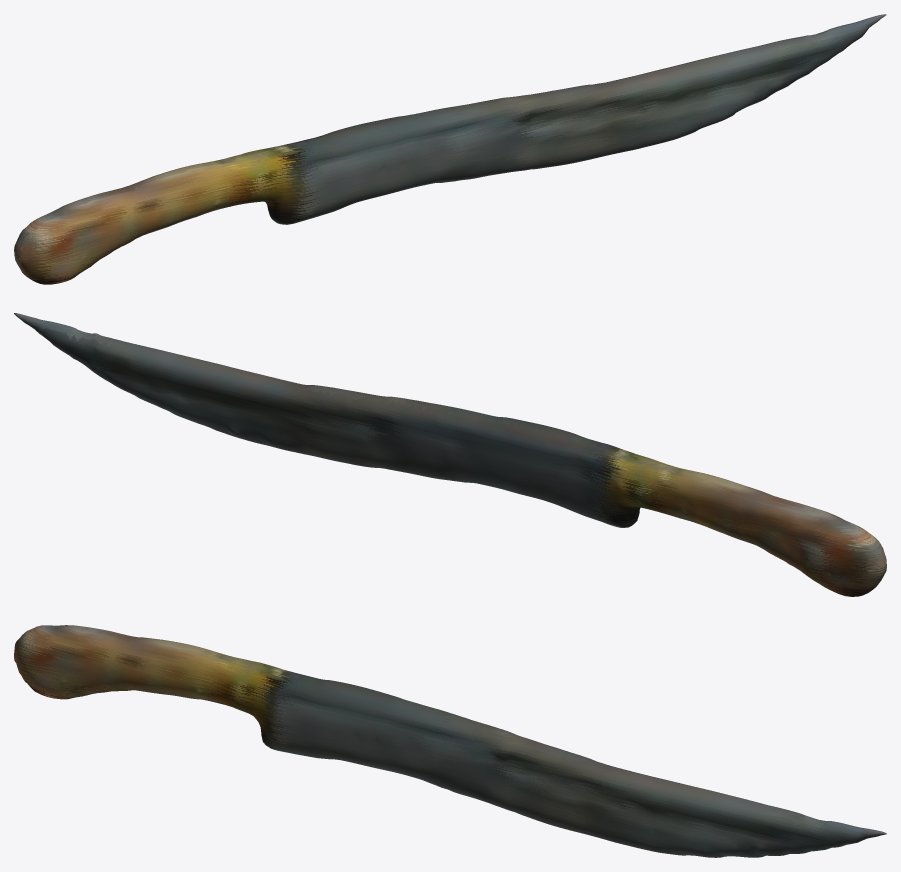
The model's file is kfl-2176.glb.
3 views of the same model, one above another, from view 1: azimuth 30°, elevation 25°; view 2: azimuth 150°, elevation 25°; view 3: azimuth 330°, elevation 25° (orthographic).
Parts seen in each view (by area): view 1: geometry_0; view 2: geometry_0; view 3: geometry_0.
Boxes of the visible parts, <box> form: geometry_0: <box>14,14,886,284</box>; geometry_0: <box>14,313,886,596</box>; geometry_0: <box>14,625,886,857</box>.
Size of the model in its own units: 0.9888 by 0.0942 by 0.0558.
Materials: 1 (1 with a texture image).
